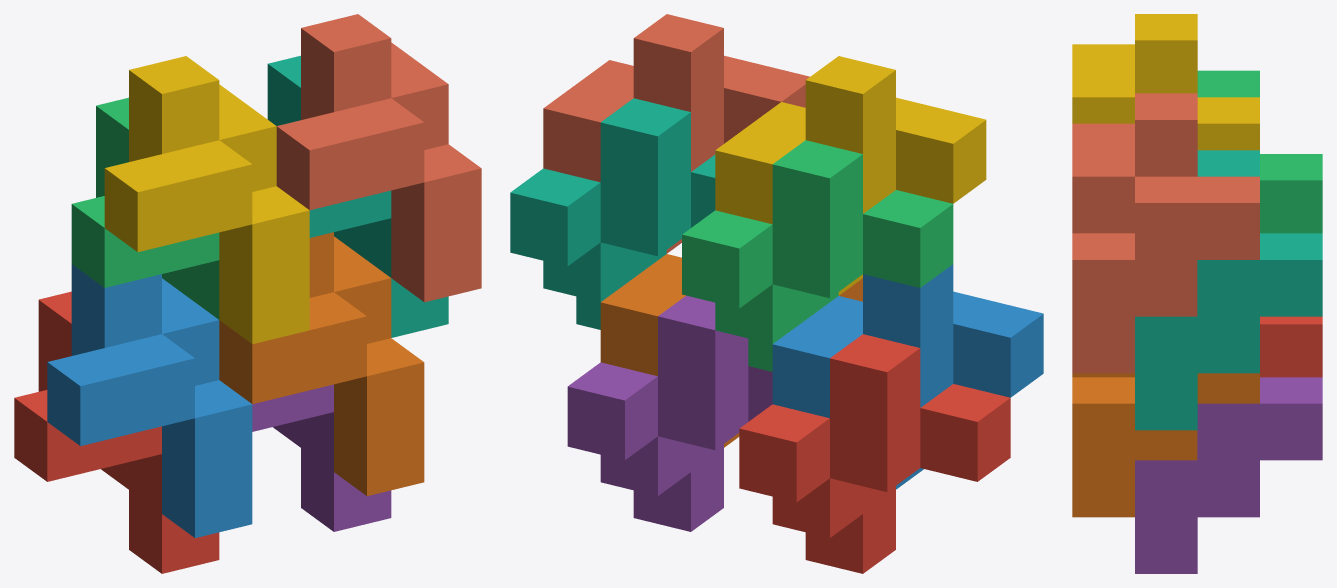
Rendered from tiling.obj.
3 views of the same model, side by side, from view 1: azimuth 30°, elevation 25°; view 2: azimuth 150°, elevation 25°; view 3: azimuth 270°, elevation 25° (orthographic). The views are drawn at different scales.
Parts seen in each view (by area): view 1: copy_1_domain_4, copy_1_domain_8, copy_1_domain_2, copy_1_domain_6, copy_1_domain_1, copy_1_domain_3, copy_1_domain_7, copy_1_domain_5; view 2: copy_1_domain_1, copy_1_domain_3, copy_1_domain_5, copy_1_domain_7, copy_1_domain_4, copy_1_domain_2, copy_1_domain_8, copy_1_domain_6; view 3: copy_1_domain_8, copy_1_domain_7, copy_1_domain_5, copy_1_domain_4, copy_1_domain_6, copy_1_domain_3, copy_1_domain_1.
Part boxes in pixels (x1,y1,x2,y2): copy_1_domain_4: (104, 56, 309, 344); copy_1_domain_8: (276, 14, 481, 302); copy_1_domain_2: (47, 264, 252, 537); copy_1_domain_6: (219, 232, 424, 496); copy_1_domain_1: (14, 291, 219, 573); copy_1_domain_3: (71, 97, 219, 319); copy_1_domain_7: (267, 55, 448, 337); copy_1_domain_5: (252, 384, 391, 531); copy_1_domain_1: (739, 334, 1010, 573); copy_1_domain_3: (682, 140, 953, 371); copy_1_domain_5: (567, 295, 772, 531); copy_1_domain_7: (510, 98, 715, 329); copy_1_domain_4: (715, 56, 986, 295); copy_1_domain_2: (772, 264, 1043, 489); copy_1_domain_8: (543, 14, 809, 253); copy_1_domain_6: (600, 254, 862, 447); copy_1_domain_8: (1072, 93, 1259, 373); copy_1_domain_7: (1135, 150, 1322, 430); copy_1_domain_5: (1135, 377, 1322, 573); copy_1_domain_4: (1072, 14, 1259, 150); copy_1_domain_6: (1072, 373, 1259, 517); copy_1_domain_3: (1197, 70, 1322, 233); copy_1_domain_1: (1260, 316, 1322, 377).
Size of the model in its own units: 7 by 8 by 4.
